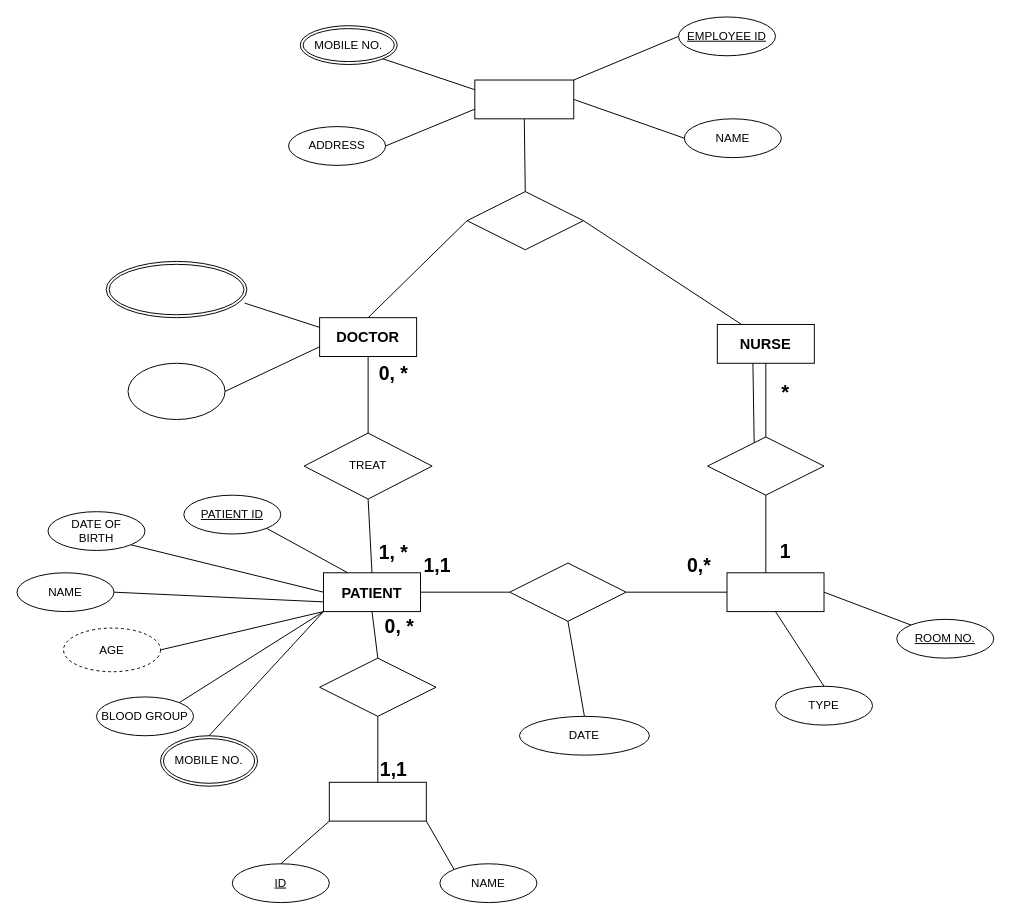
Some shapes in this 1011 by 920 pixel diagram are drawn without their labels. The shapes that lost their labels are listed below. From the top down, each one's centre as x and y in pixels, then its label:
point 524,99: EMPLOYEE
point 524,220: IS A
point 176,289: QUALIFICATIONS
point 176,391: DEPARTMENT NAME
point 765,465: MANAGE
point 567,591: ASSIGNED
point 775,592: ROOM
point 377,686: HAS
point 377,801: TEST REPORT
